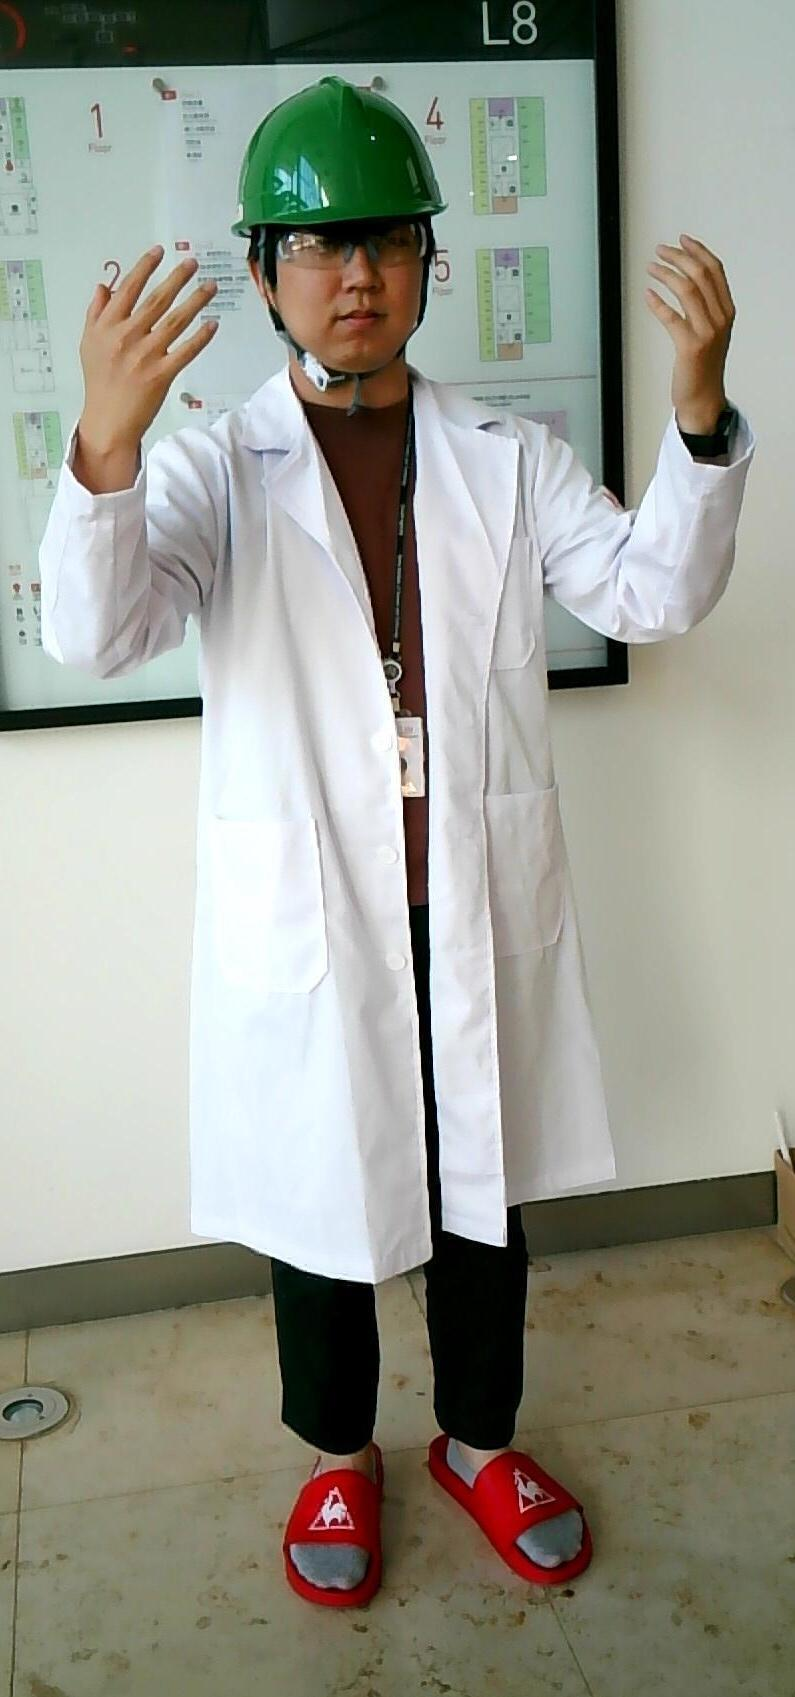lab_coat: (167, 418, 541, 1245)
